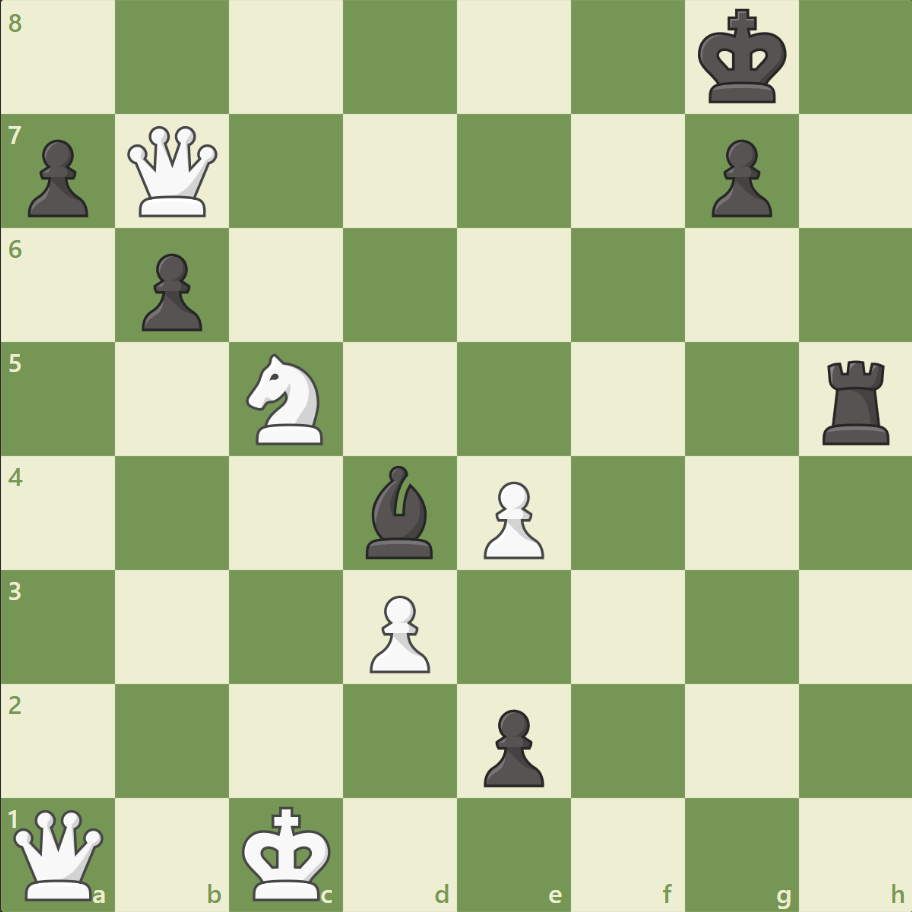K: (238, 798, 338, 906)
N: (238, 348, 335, 450)
P: (474, 473, 549, 564), (361, 586, 435, 677)
Q: (124, 122, 223, 222), (10, 804, 109, 903)
b: (358, 460, 442, 563)
k: (692, 4, 792, 112)
p: (20, 132, 95, 223), (701, 132, 776, 223), (133, 246, 208, 337), (474, 700, 549, 791)
r: (814, 352, 897, 449)
